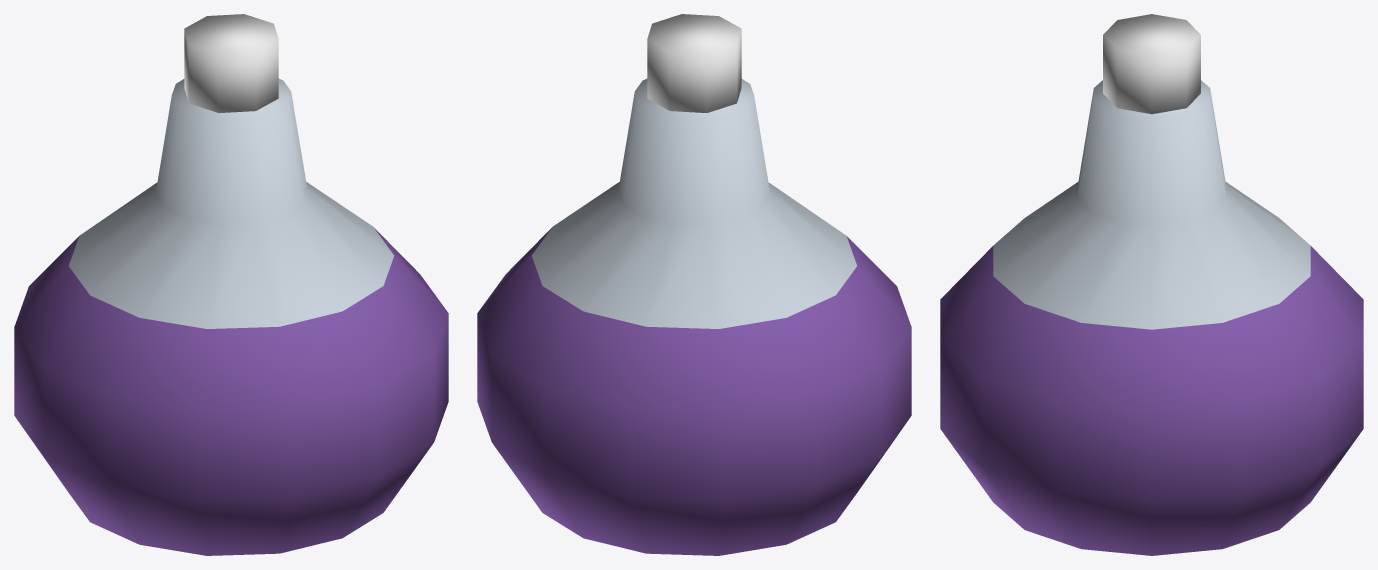
The model's file is vile_powder.glb.
3 views of the same model, side by side, from view 1: azimuth 30°, elevation 25°; view 2: azimuth 150°, elevation 25°; view 3: azimuth 270°, elevation 25° (orthographic).
Parts seen in each view (by area): view 1: vile_powder_v0; view 2: vile_powder_v0; view 3: vile_powder_v0.
Part boxes in pixels (bbox=[...]): vile_powder_v0: bbox=[14, 14, 448, 555]; vile_powder_v0: bbox=[477, 14, 911, 555]; vile_powder_v0: bbox=[940, 14, 1363, 555].
Size of the model in its own units: 0.24 by 0.276 by 0.234.
